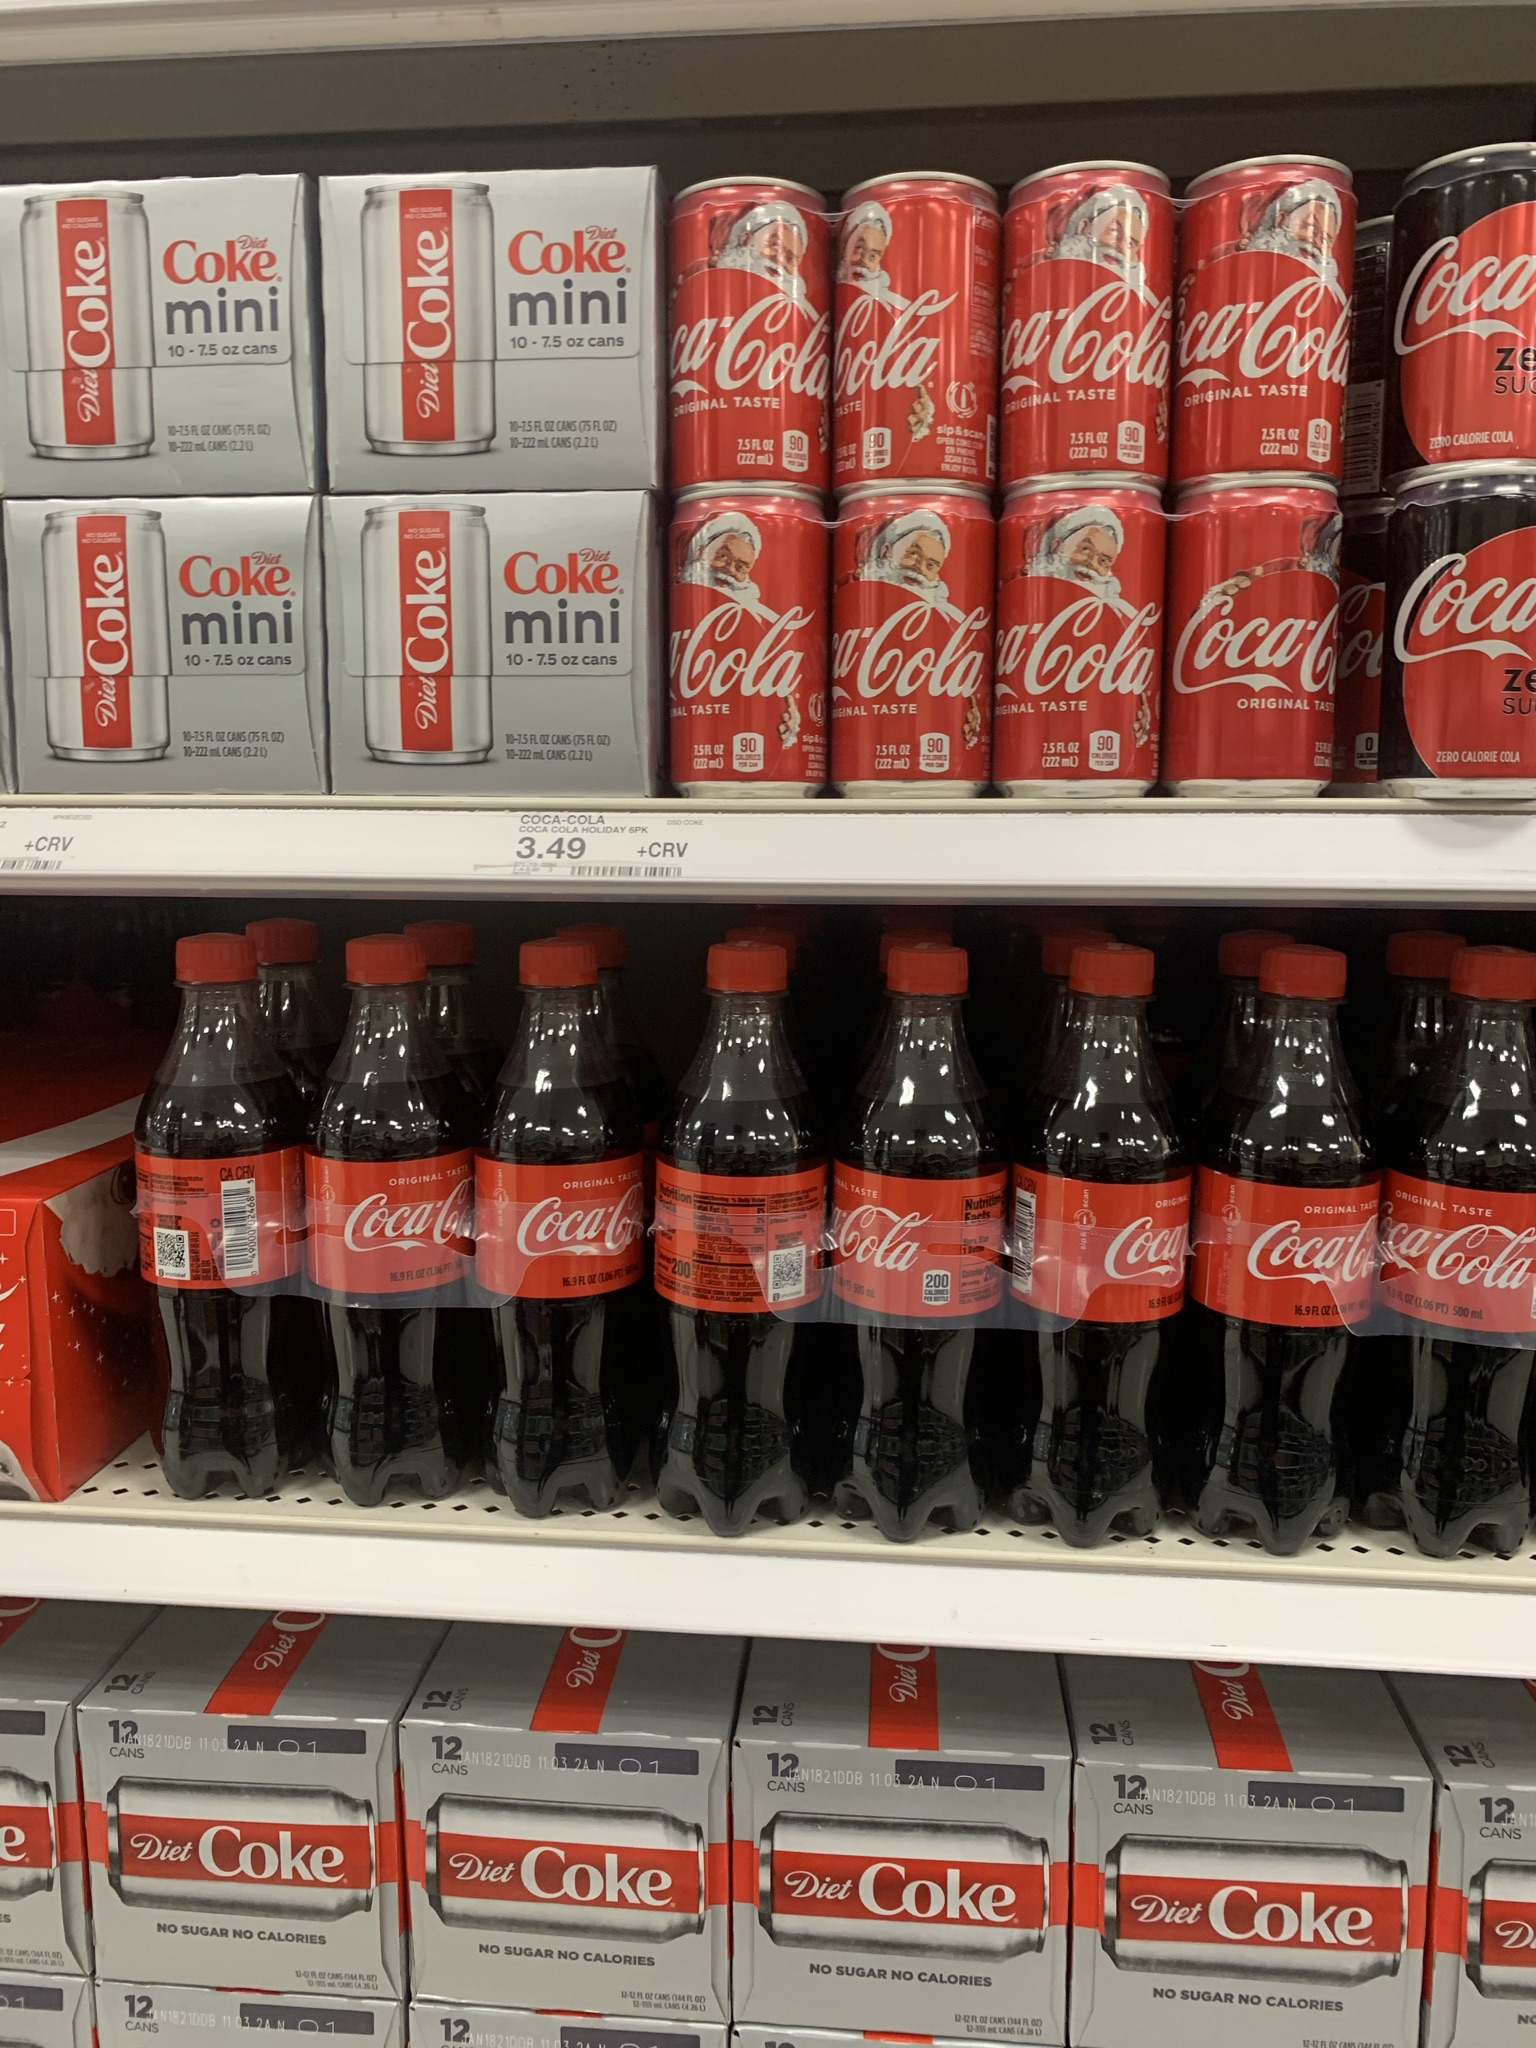Soda: (1197, 939, 1383, 1563), (311, 171, 657, 490), (829, 935, 1007, 1542), (652, 935, 826, 1538), (1018, 942, 1187, 1550), (318, 495, 650, 803), (1073, 1763, 1428, 2048), (479, 932, 649, 1526), (2, 173, 311, 495), (733, 1743, 1071, 2037), (136, 930, 305, 1509), (2, 497, 328, 795), (311, 930, 479, 1508), (81, 1709, 397, 2000), (1392, 932, 1536, 1563), (405, 1717, 716, 2008), (1181, 153, 1359, 481), (1371, 461, 1536, 813), (991, 479, 1167, 795), (1004, 163, 1173, 487), (1175, 484, 1342, 803), (829, 481, 991, 801), (665, 177, 829, 490), (665, 484, 824, 803), (841, 173, 995, 489), (1391, 142, 1536, 463)
